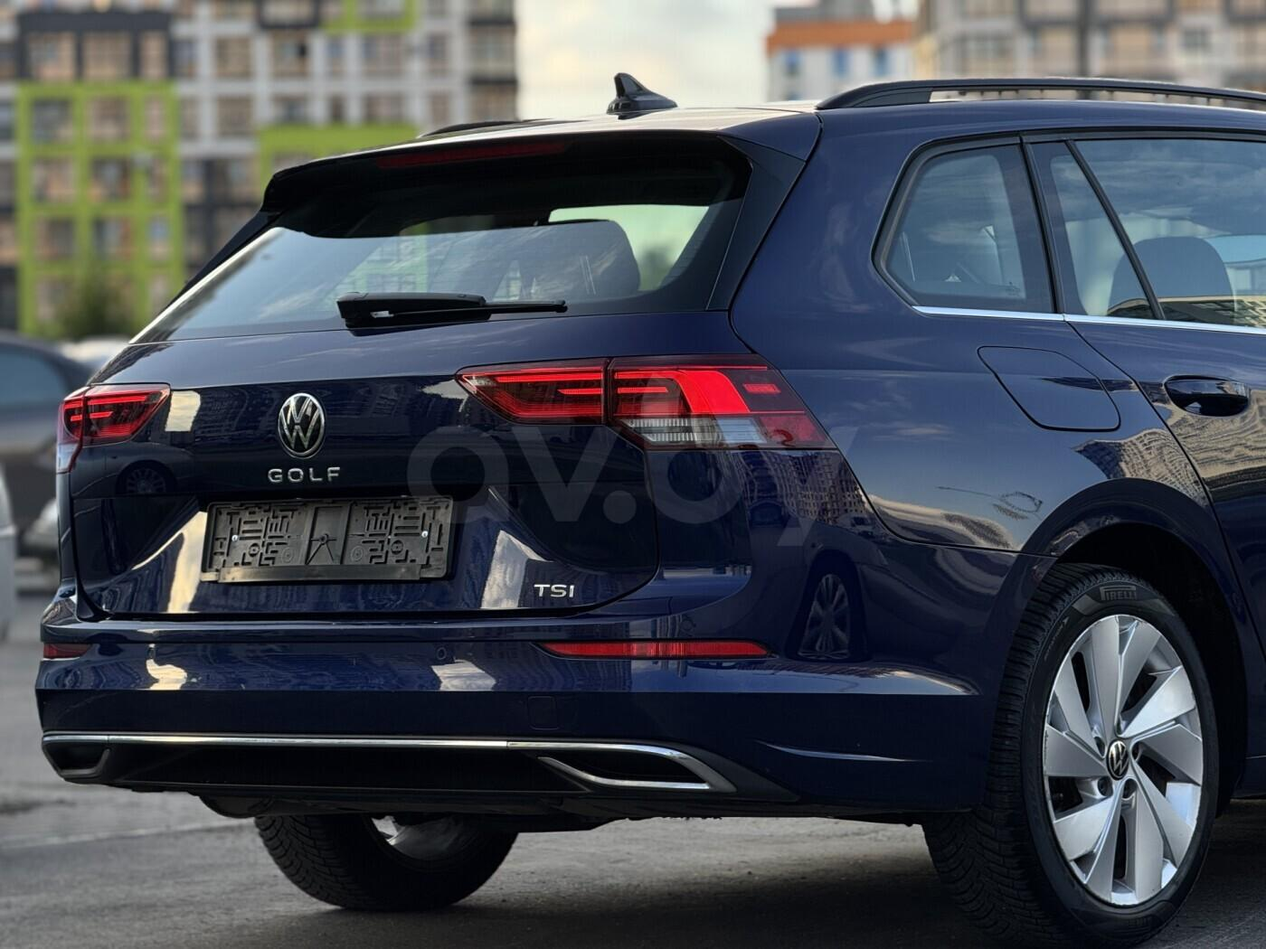Golf_2019: (25, 94, 1266, 945)
